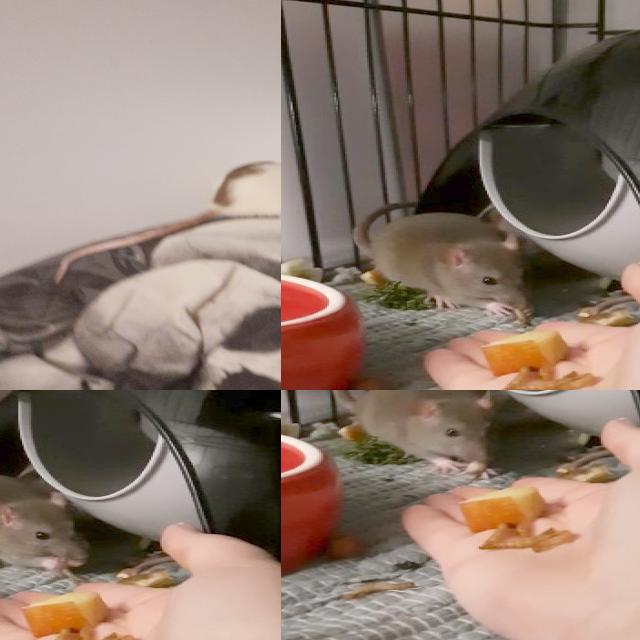rat: (371, 212, 540, 321), (347, 390, 514, 483), (0, 470, 99, 573), (202, 159, 281, 221)
